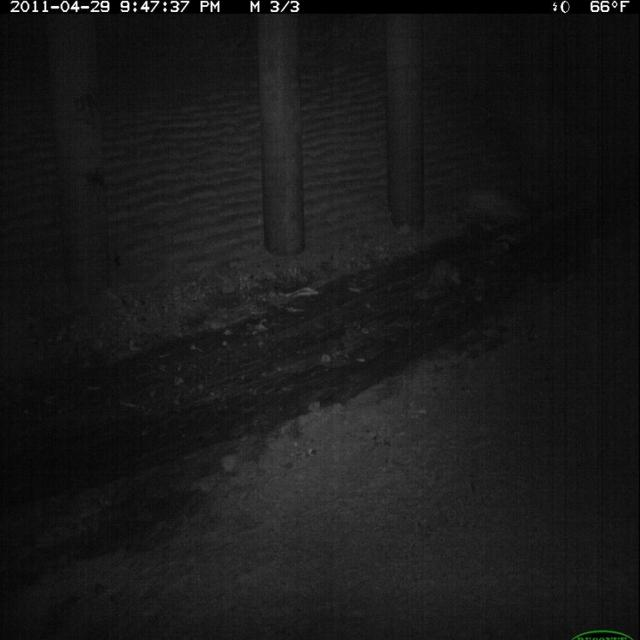opossum: (419, 255, 468, 300)
